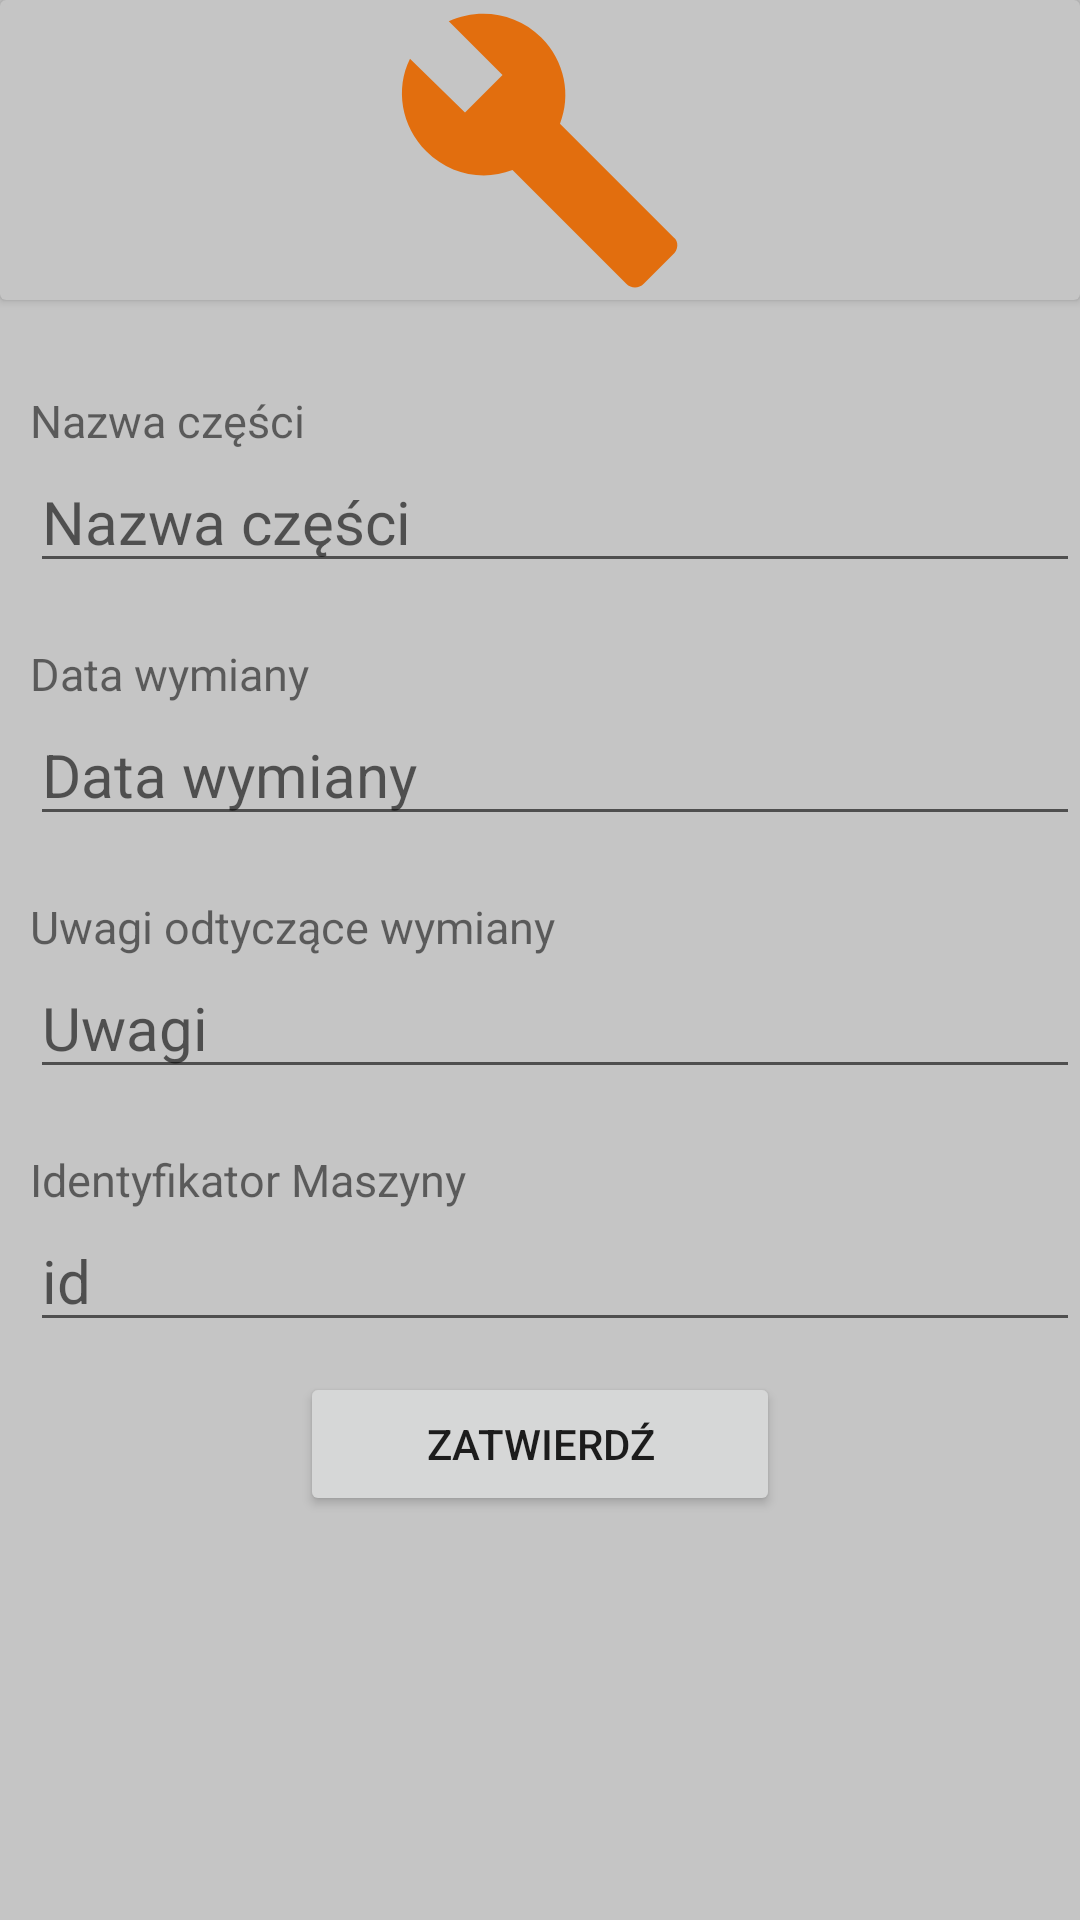

Screen size 1080x1920. Icon name, then its center in pixels as point (x, y):
czesci: point (540, 150)
